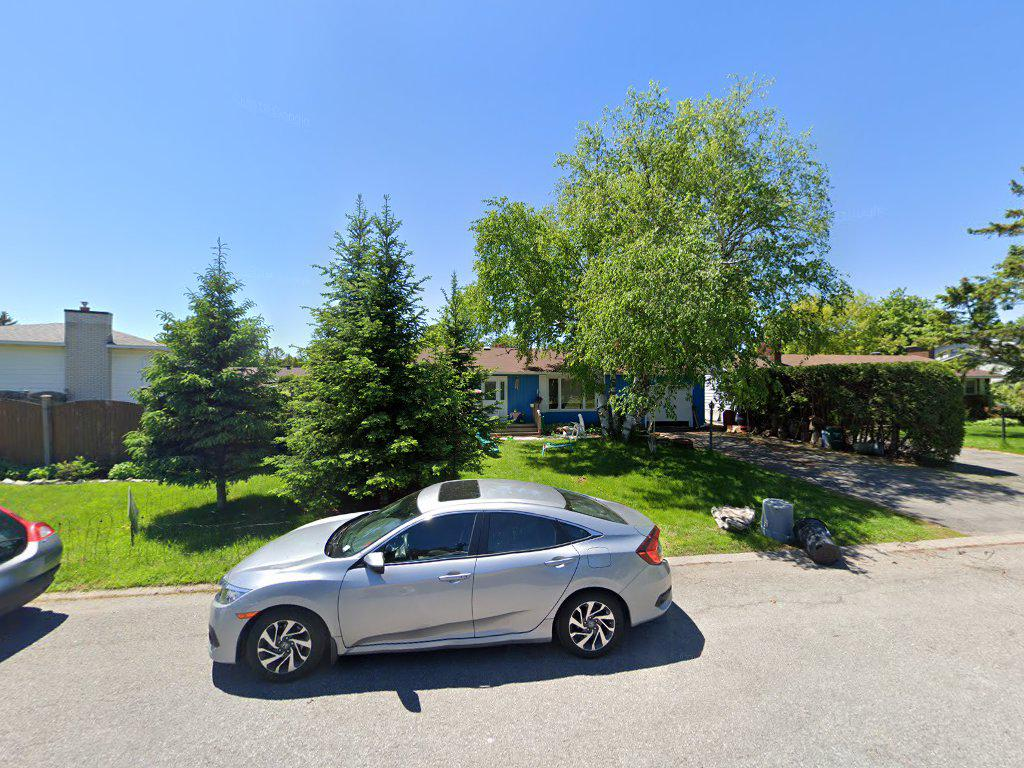trunk: (213, 479, 233, 511)
